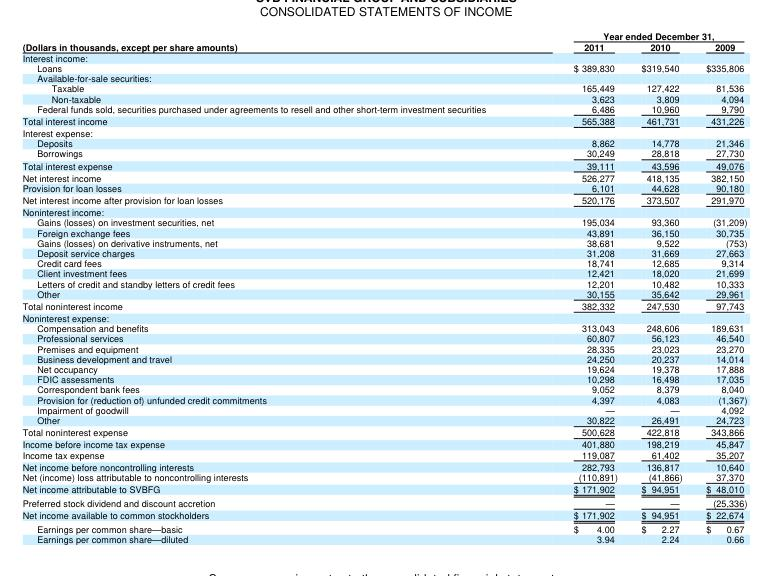table: (21, 28, 746, 544)
table column: (21, 28, 528, 544), (528, 28, 628, 544), (628, 28, 693, 544), (693, 28, 746, 544)
table column header: (21, 28, 746, 51)
table projected row header: (21, 51, 746, 62), (21, 126, 746, 137), (21, 205, 746, 216), (21, 311, 746, 322), (21, 72, 746, 82)
table row: (21, 158, 746, 171), (21, 482, 746, 495), (21, 495, 746, 508), (21, 508, 746, 521), (21, 28, 746, 40), (21, 114, 746, 126), (21, 193, 746, 205), (21, 299, 746, 311), (21, 425, 746, 437), (21, 448, 746, 460), (21, 521, 746, 533), (21, 40, 746, 51), (21, 51, 746, 62), (21, 82, 746, 93), (21, 103, 746, 114), (21, 126, 746, 137), (21, 147, 746, 158), (21, 171, 746, 182), (21, 182, 746, 193), (21, 205, 746, 216), (21, 226, 746, 237), (21, 277, 746, 288), (21, 288, 746, 299), (21, 311, 746, 322), (21, 342, 746, 353), (21, 383, 746, 394), (21, 414, 746, 425), (21, 437, 746, 448), (21, 460, 746, 471), (21, 471, 746, 482), (21, 533, 746, 544), (21, 62, 746, 72), (21, 72, 746, 82), (21, 93, 746, 103), (21, 137, 746, 147), (21, 216, 746, 226), (21, 237, 746, 247), (21, 247, 746, 257), (21, 257, 746, 267), (21, 267, 746, 277), (21, 322, 746, 332), (21, 332, 746, 342), (21, 353, 746, 363), (21, 363, 746, 373), (21, 373, 746, 383), (21, 394, 746, 404), (21, 404, 746, 414)
table spanning cell: (21, 28, 528, 51), (528, 28, 746, 40)
